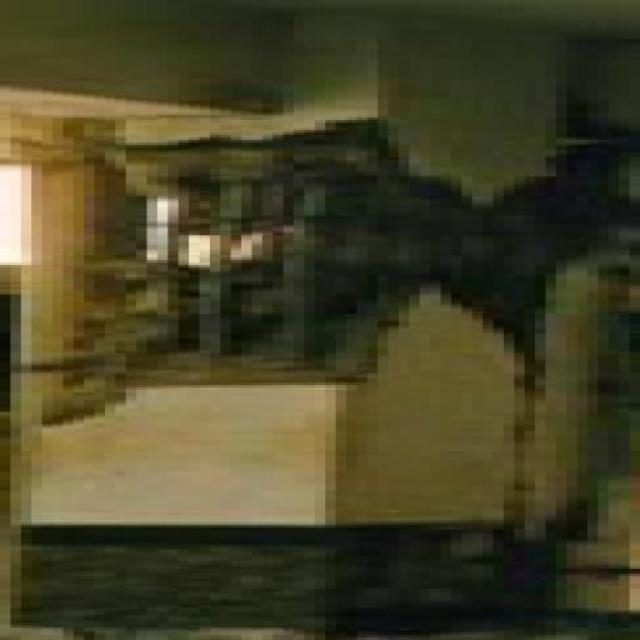D0w0: (128, 121, 465, 380)
